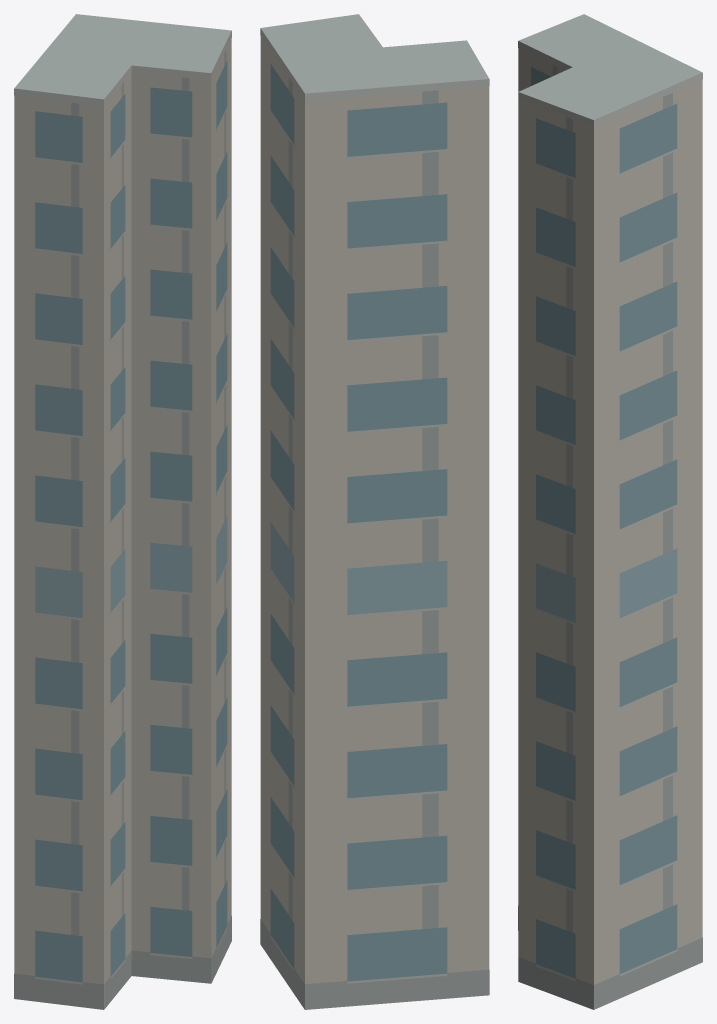
Rendered from survey-upis-32683861.glb.
3 renders of one model, left to right at view 1: azimuth 30°, elevation 25°; view 2: azimuth 150°, elevation 25°; view 3: azimuth 270°, elevation 25°, orthographic. The views are drawn at different scales.
Parts seen in each view (by area): view 1: survey-upis-32683861.tmp; view 2: survey-upis-32683861.tmp; view 3: survey-upis-32683861.tmp.
Boxes of the visible parts, x1=… form: survey-upis-32683861.tmp: x1=14, y1=14, x2=231, y2=1009; survey-upis-32683861.tmp: x1=260, y1=14, x2=489, y2=1009; survey-upis-32683861.tmp: x1=518, y1=14, x2=702, y2=1009.
Size of the model in its own units: 7.81 by 30.5 by 5.74.
